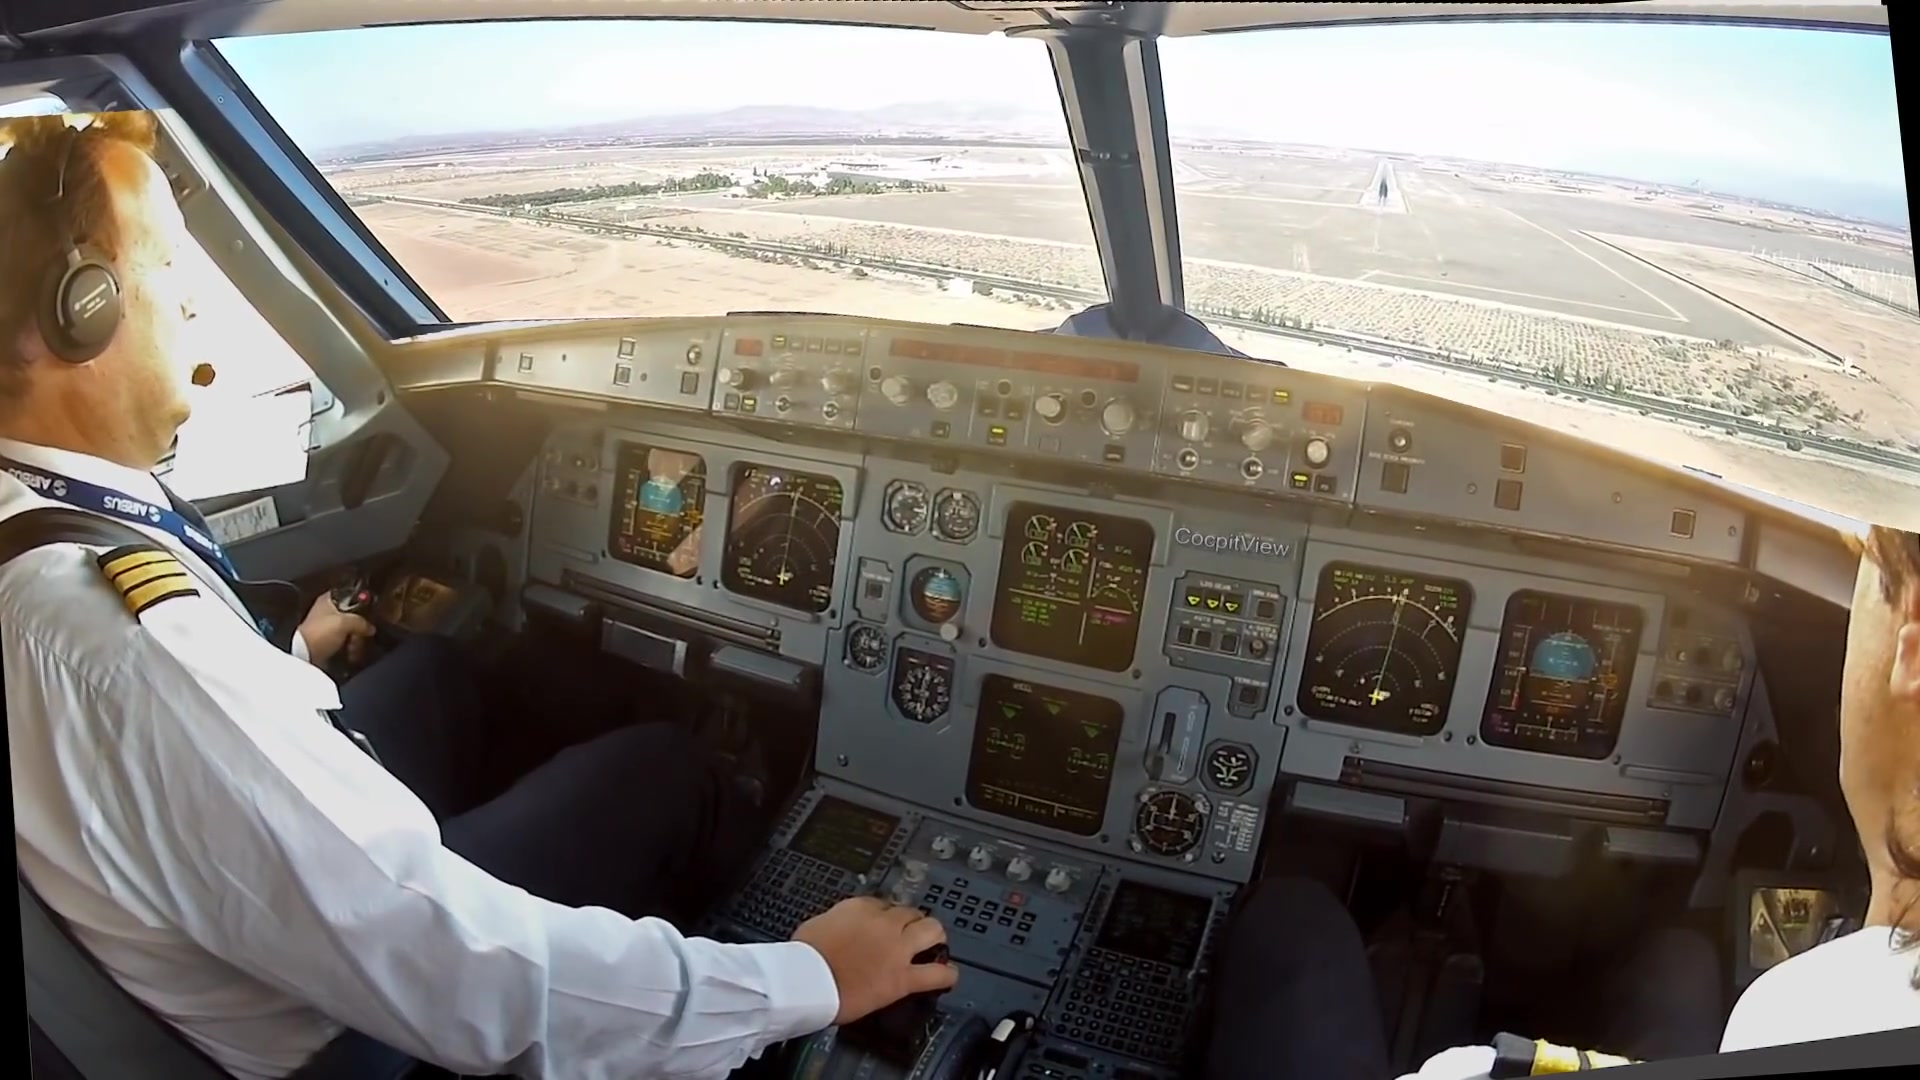runway: (1357, 160, 1407, 214)
